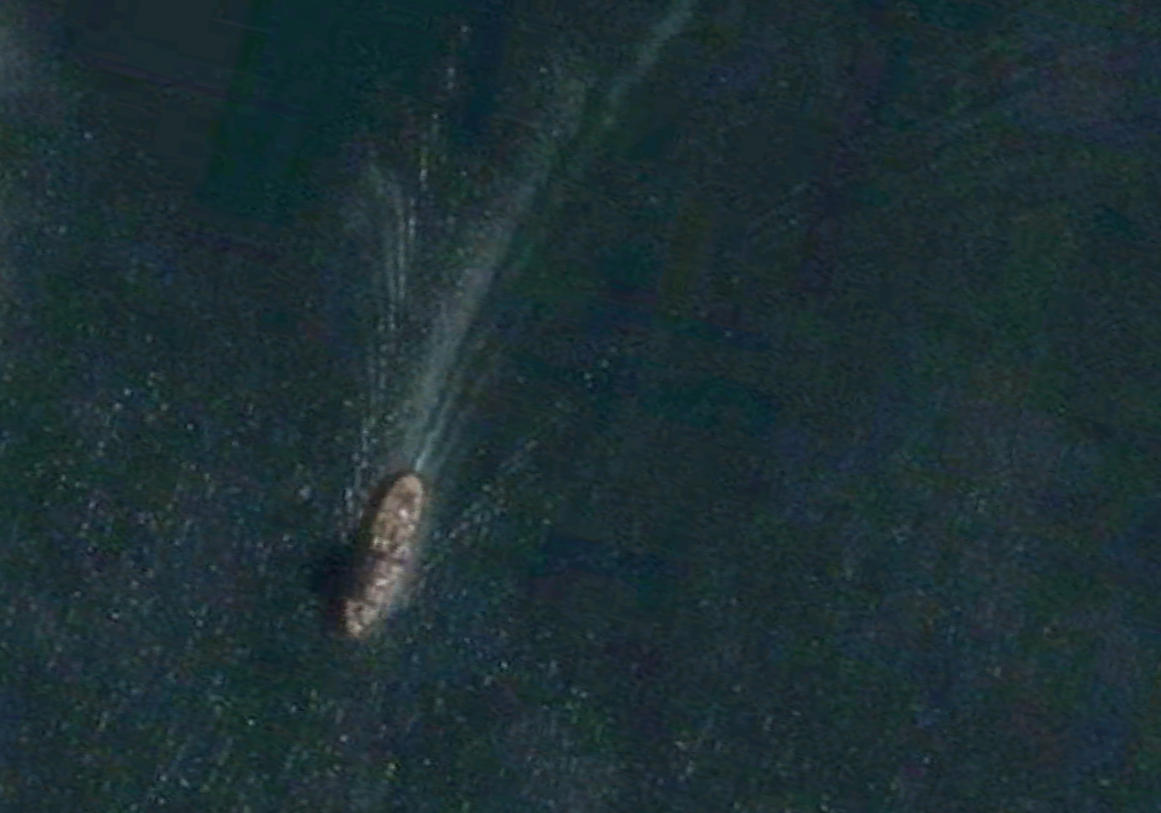merchant ship: (343, 469, 424, 637)
